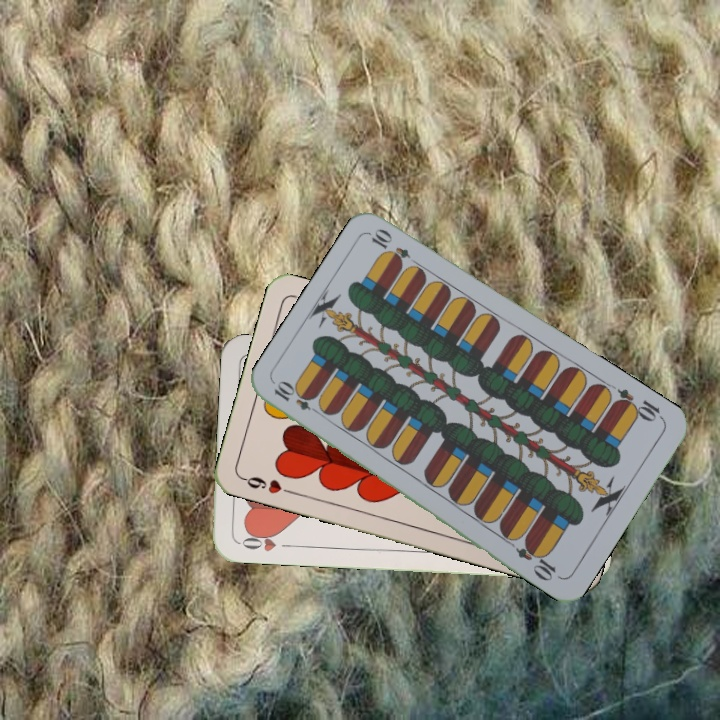E10: (609, 384, 666, 425), (270, 378, 325, 418)
H9: (238, 472, 296, 497)
HO: (236, 528, 295, 554)
